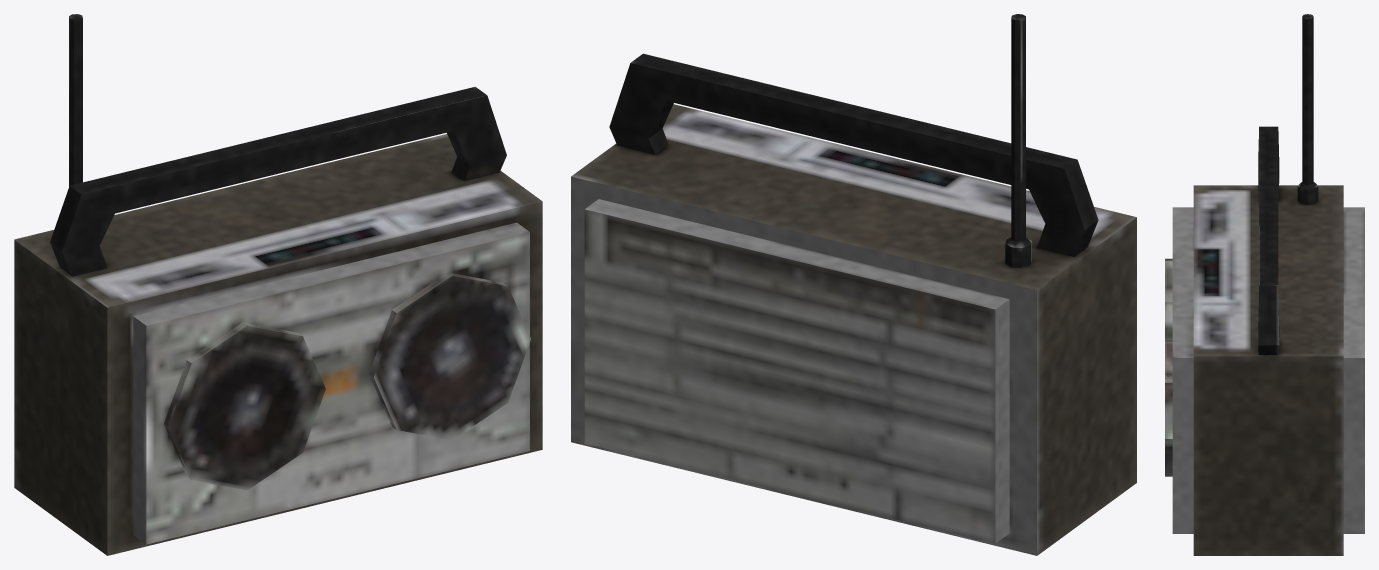
The model's file is radio_prop.glb.
3 views of the same model, side by side, from view 1: azimuth 30°, elevation 25°; view 2: azimuth 150°, elevation 25°; view 3: azimuth 270°, elevation 25° (orthographic). The views are drawn at different scales.
Visible parts, largest first — view 1: Radio.001; view 2: Radio.001; view 3: Radio.001.
Boxes of the visible parts, x1,y1,x2,y2 form: Radio.001: [14, 14, 542, 555]; Radio.001: [571, 14, 1136, 555]; Radio.001: [1165, 14, 1364, 555].
Size of the model in its own units: 1.07 by 1.1 by 0.5171.
Materials: 1 (1 with a texture image).
